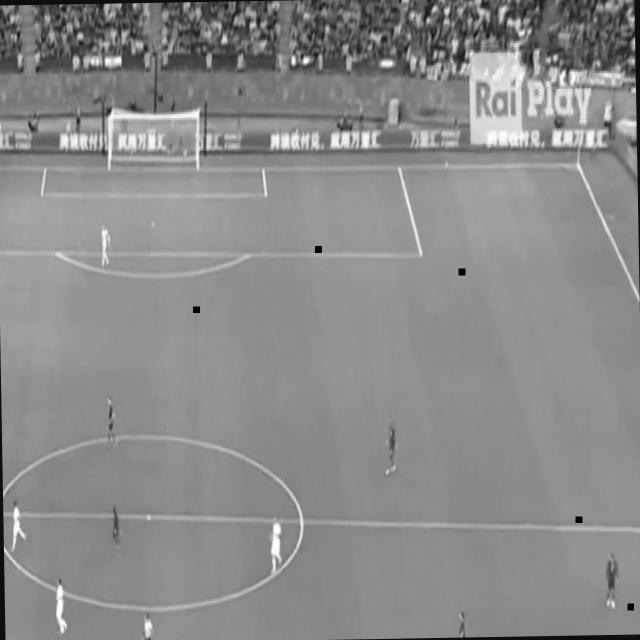player-white: (603, 549, 622, 612), (8, 498, 28, 555), (268, 512, 284, 578), (383, 416, 399, 478), (54, 575, 68, 637), (105, 394, 119, 450), (110, 503, 124, 553), (136, 609, 156, 640), (99, 219, 111, 269), (452, 608, 470, 638)
